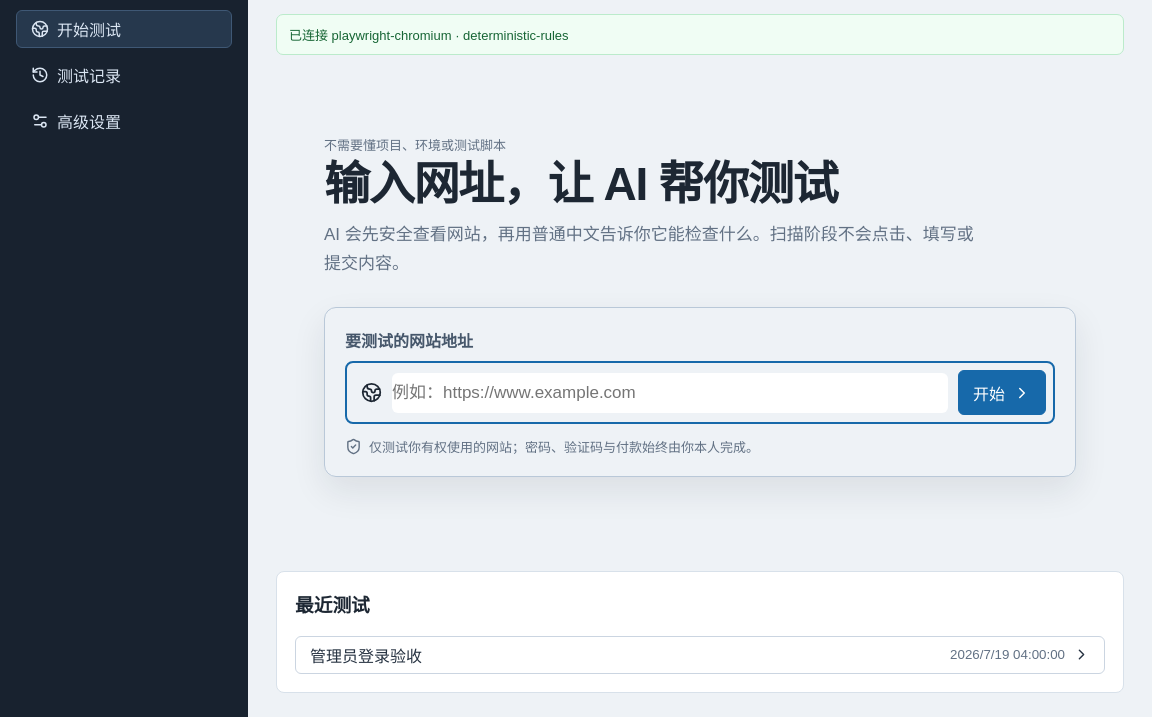
Test: App › replaces the useless stop button with an editable retry path after a system error
(page scrolled)
Click the button "管理员登录验收 2026/7/19 04:00:00".
click(366, 656)  # box [295,636,1105,674]
(page scrolled)
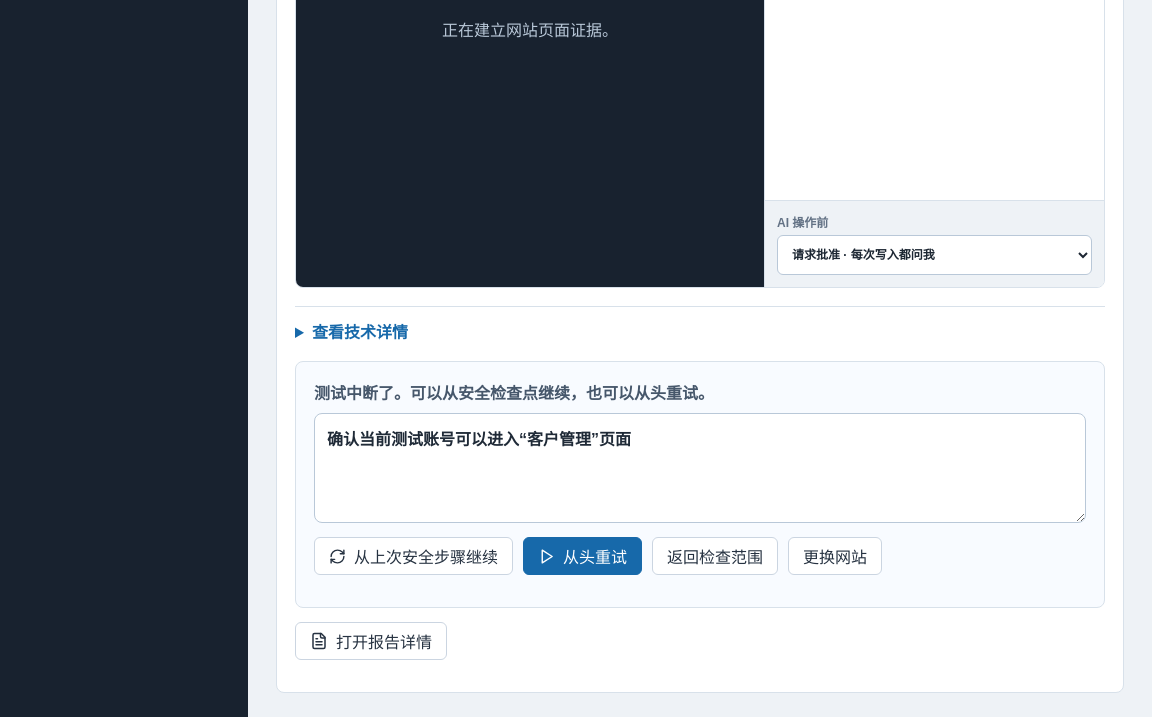
Now the text box with placeholder "如需修改目标，请用普通中文告诉 AI……" is shown, box [314,413,1086,523]
Now the button "从上次安全步骤继续" is shown, box [314,537,513,575]
Now the button "从头重试" is shown, box [523,537,642,575]
